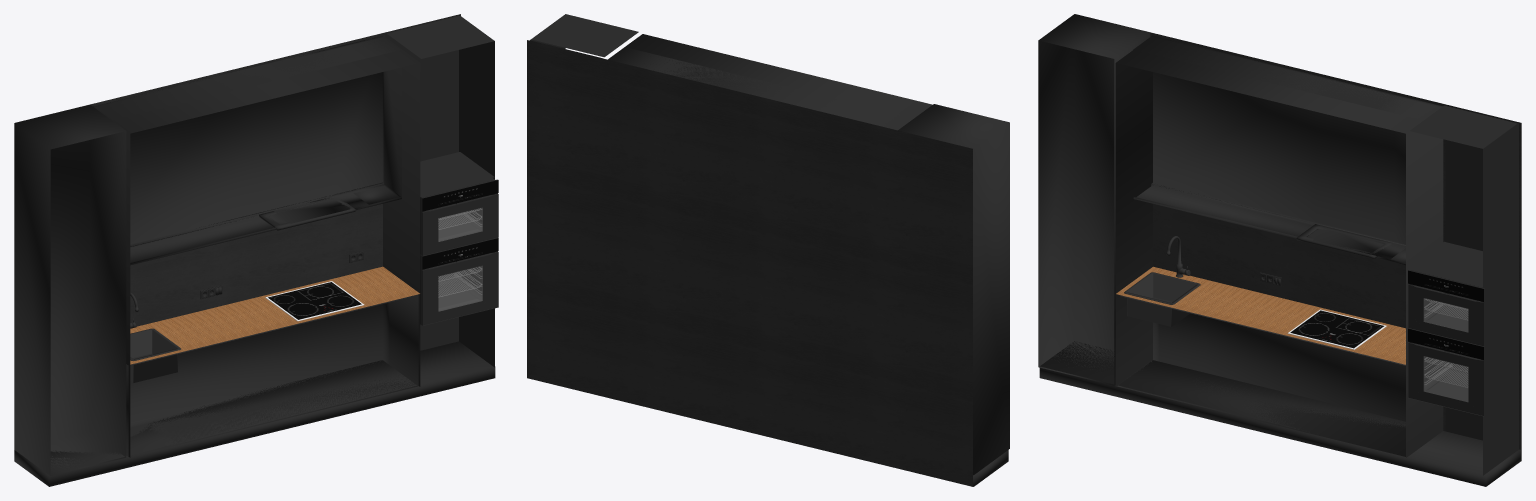
File: kitchenFurniture.glb
The picture shows the model from 3 angles, left to right: view 1: azimuth 30°, elevation 25°; view 2: azimuth 150°, elevation 25°; view 3: azimuth 330°, elevation 25°; orthographic projection.
Visible parts, largest first — view 1: Plane.001, Plane.002, Plane.009, Plane.006, Plane.038, Plane.018, Plane.020, Plane, Plane.045, Plane.039, Plane.017, Plane.012 (+2 smaller); view 2: Plane.009, Plane.001, Plane.002; view 3: Plane.001, Plane.002, Plane.009, Plane.006, Plane.038, Plane.018, Plane, Plane.020, Plane.045, Plane.039, Plane.017, Plane.012 (+2 smaller).
Part boxes in pixels (left/top/right/bottom): Plane.001: left=14, top=36, right=495, bottom=486; Plane.002: left=93, top=14, right=494, bottom=457; Plane.009: left=15, top=14, right=460, bottom=326; Plane.006: left=130, top=266, right=419, bottom=364; Plane.038: left=422, top=238, right=498, bottom=325; Plane.018: left=422, top=180, right=498, bottom=256; Plane.020: left=265, top=281, right=364, bottom=321; Plane: left=130, top=328, right=180, bottom=382; Plane.045: left=428, top=256, right=491, bottom=315; Plane.039: left=422, top=251, right=497, bottom=325; Plane.017: left=422, top=179, right=497, bottom=255; Plane.012: left=428, top=198, right=491, bottom=246; Plane.009: left=527, top=40, right=972, bottom=486; Plane.001: left=608, top=47, right=1009, bottom=486; Plane.002: left=530, top=14, right=932, bottom=130; Plane.001: left=1038, top=14, right=1520, bottom=486; Plane.002: left=1115, top=36, right=1518, bottom=475; Plane.009: left=1075, top=14, right=1521, bottom=461; Plane.006: left=1116, top=266, right=1405, bottom=364; Plane.038: left=1408, top=328, right=1484, bottom=416; Plane.018: left=1408, top=270, right=1484, bottom=346; Plane: left=1124, top=272, right=1200, bottom=326; Plane.020: left=1287, top=309, right=1386, bottom=349; Plane.045: left=1415, top=347, right=1477, bottom=406; Plane.039: left=1408, top=342, right=1484, bottom=415; Plane.017: left=1408, top=270, right=1484, bottom=345; Plane.012: left=1415, top=288, right=1477, bottom=336.
Size of the model in its own units: 4 by 2.9 by 0.5834.
Materials: 13 (5 with a texture image).
